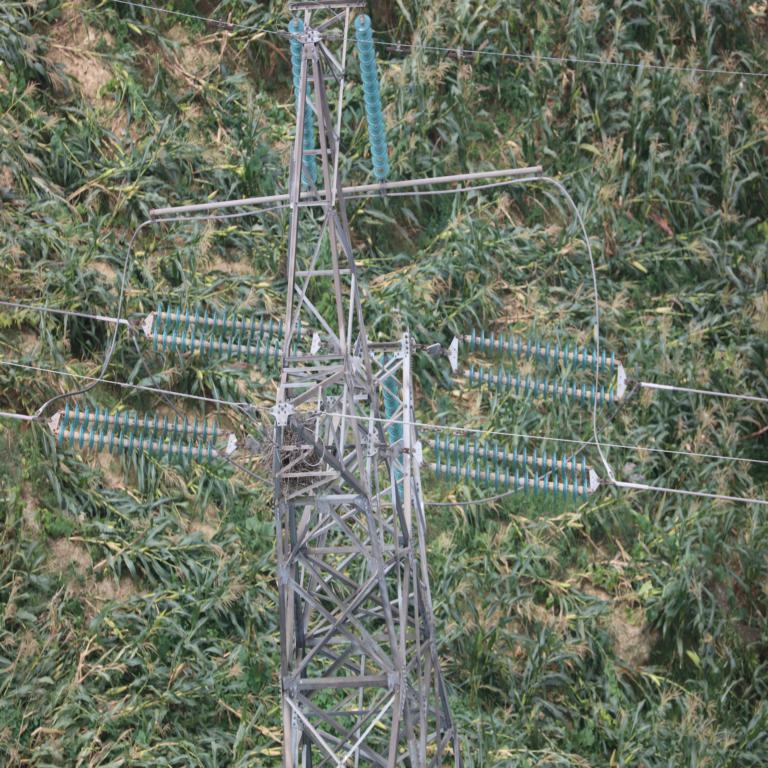nest: (265, 426, 318, 493)
